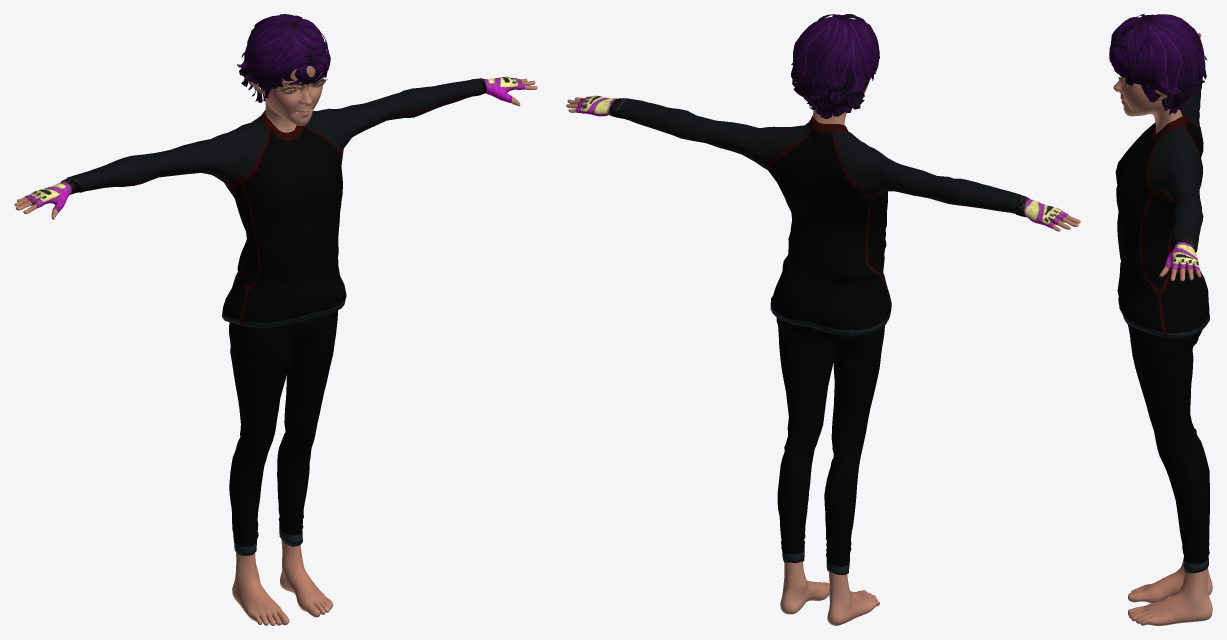
3 views of the same model, side by side, from view 1: azimuth 30°, elevation 25°; view 2: azimuth 150°, elevation 25°; view 3: azimuth 270°, elevation 25° (orthographic).
Parts seen in each view (by area): view 1: Tops, Bottoms, Body, Hair, Gloves; view 2: Tops, Bottoms, Hair, Body, Gloves; view 3: Tops, Bottoms, Hair, Body, Gloves.
Part boxes in pixels (<box>): Tops: <box>67,78,486,327</box>; Bottoms: <box>229,310,338,555</box>; Body: <box>14,66,537,625</box>; Hair: <box>237,14,330,102</box>; Gloves: <box>25,76,524,212</box>; Tops: <box>609,98,1025,335</box>; Bottoms: <box>776,318,884,575</box>; Hair: <box>791,14,879,118</box>; Body: <box>566,80,1080,625</box>; Gloves: <box>576,95,1068,228</box>; Tops: <box>1115,77,1209,338</box>; Bottoms: <box>1128,325,1209,573</box>; Hair: <box>1109,14,1206,115</box>; Body: <box>1113,33,1212,625</box>; Gloves: <box>1164,34,1200,272</box>.
Bounding box in the file's own units: 153 × 168 × 26.58.
